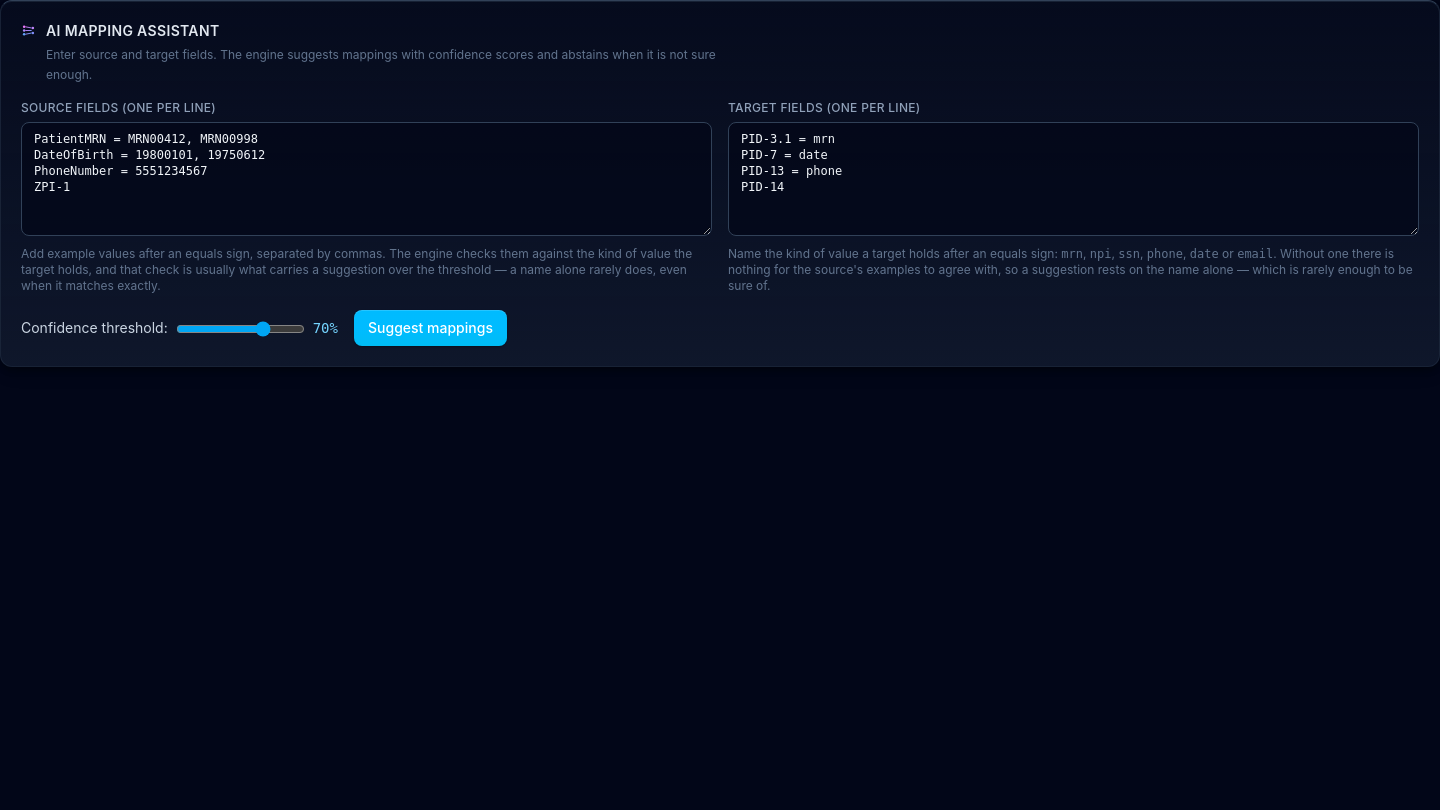
Test: MapperPanel › visually distinguishes abstention from a low-confidence suggestion
Click the button "Suggest mappings".
click(430, 328)  # box top-left (354, 310), bottom-right (507, 346)
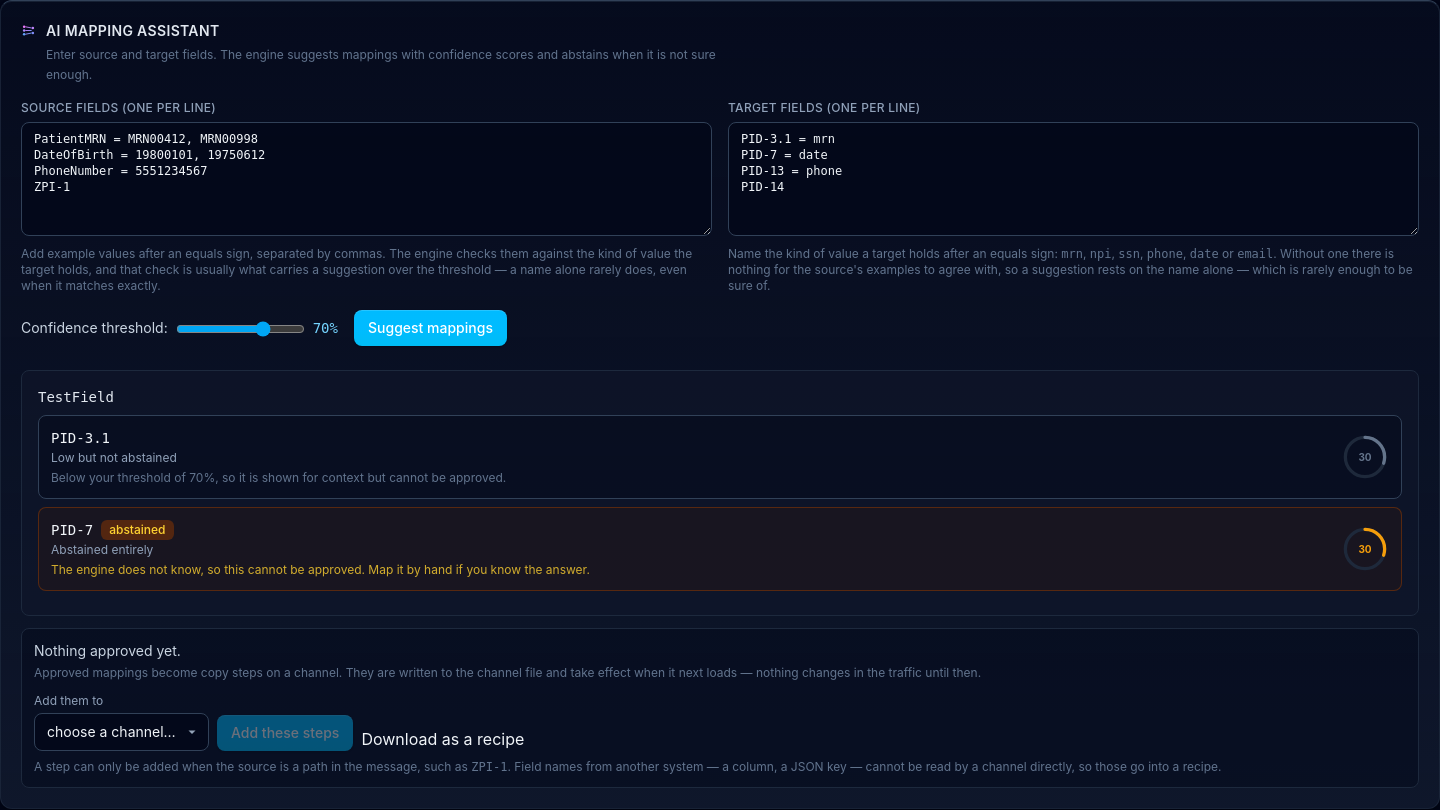
Expected: the element with class "border" shows "PID-3.1", top-left (51, 430), bottom-right (110, 446)
Expected: the element with class "border" shows "PID-7", top-left (51, 522), bottom-right (93, 538)
Expected: the text "abstained" is shown, top-left (101, 520), bottom-right (174, 540)
